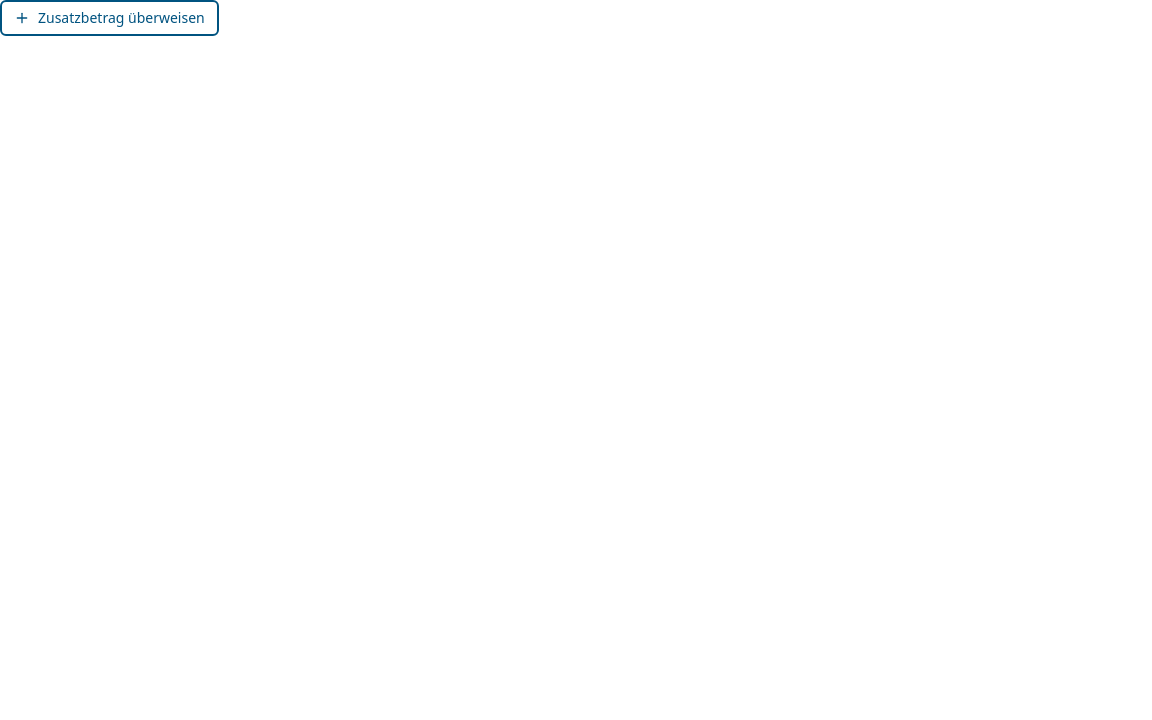
requested extra payout cannot be confirmed or approved by ordinary staff
What coordinates should you click on to do the following:
click the button "Zusatzbetrag überweisen"
I would click on:
 (109, 18)
Its box is [0,0,219,36].
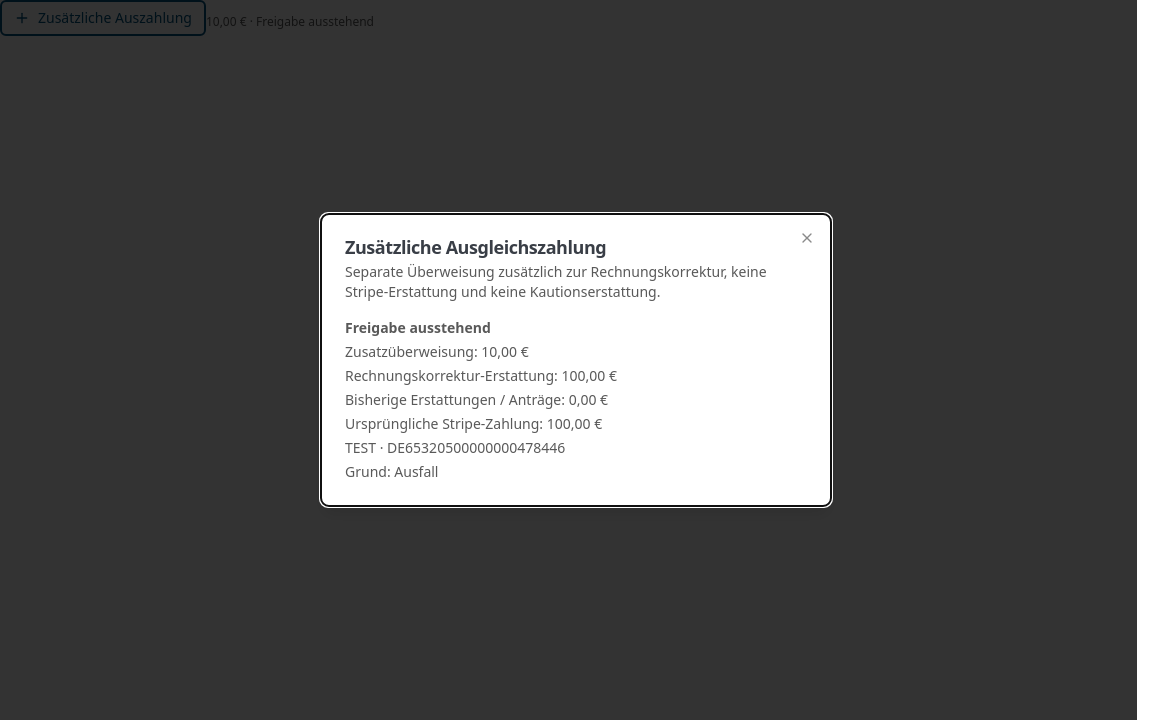
Expected: the text "Freigabe ausstehend" is shown, [345,318,491,337]
